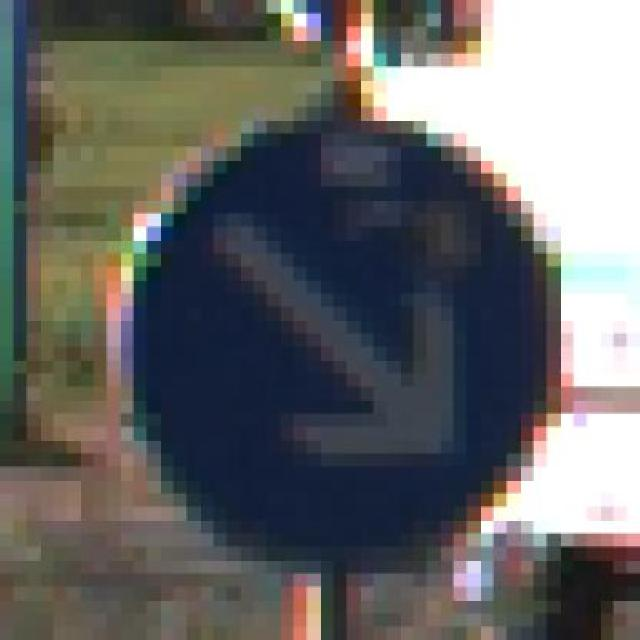Keep-Right: (67, 93, 587, 587)
